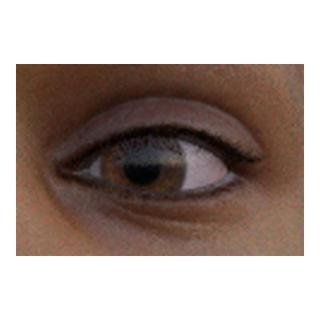pupil: (124, 150, 159, 184)
